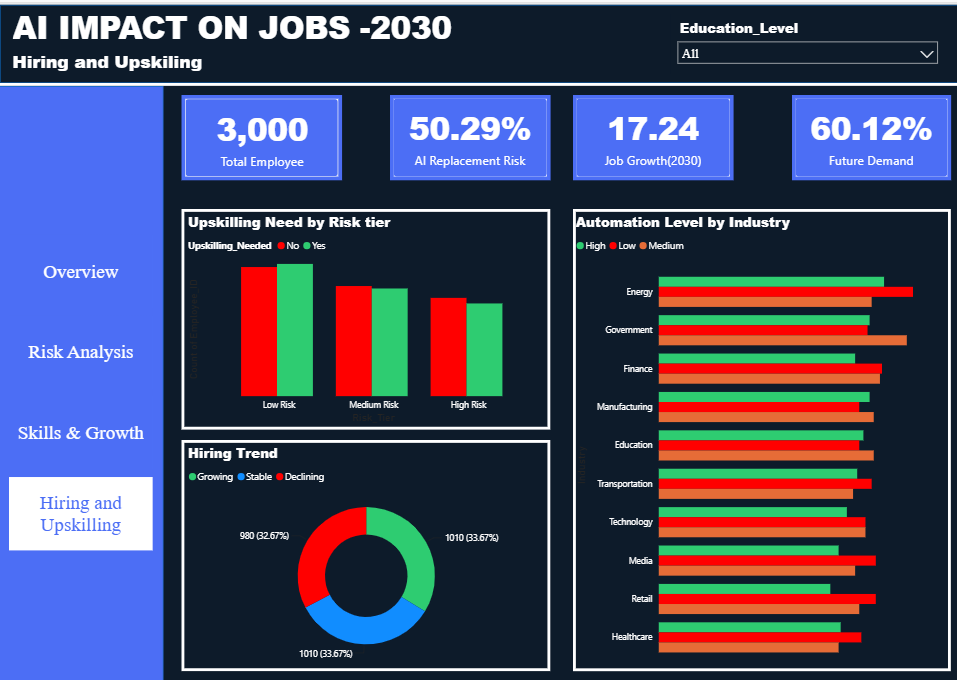

The page's visual inventory and layout, read from the dashboard file:
{"tool":"powerbi","page":{"name":"Hiring and Upskilling","canvas":[1350,950],"ordinal":3},"visuals":[{"type":"shape","box":[0,0,1349.5,117.5],"z":0},{"type":"donutChart","title":"Hiring Trend","fields":{"Category":["cleaned_data.Hiring_Trend_2026"],"Y":["CountNonNull(cleaned_data.Employee_ID)"]},"box":[258.1,612.8,516.3,323.2],"z":1000},{"type":"clusteredColumnChart","title":"Upskilling Need by Risk tier","fields":{"Category":["cleaned_data.Risk_Tier"],"Y":["CountNonNull(cleaned_data.Employee_ID)"],"Series":["cleaned_data.Upskilling_Needed"]},"box":[258.1,289.6,516.3,308.5],"z":2000},{"type":"clusteredBarChart","title":"Automation Level by Industry","fields":{"Category":["cleaned_data.Industry"],"Y":["CountNonNull(cleaned_data.Employee_ID)"],"Series":["cleaned_data.Automation_Level"]},"box":[805.9,289.6,528.9,646.4],"z":3000},{"type":"slicer","fields":{"Values":["cleaned_data.Education_Level"]},"box":[942.3,16.8,384.1,83.9],"z":4000},{"type":"cardVisual","fields":{"Data":["Avg(cleaned_data.AI_Replacement_Risk)"]},"box":[549.9,130.1,224.6,119.6],"z":5000},{"type":"cardVisual","fields":{"Data":["Avg(cleaned_data.Job_Growth_2030)"]},"box":[805.9,130.1,224.6,119.6],"z":6000},{"type":"cardVisual","fields":{"Data":["Avg(cleaned_data.Future_Demand_Score)"]},"box":[1112.3,130.1,222.5,119.6],"z":7000},{"type":"cardVisual","fields":{"Data":["Count(cleaned_data.Employee_ID)"]},"box":[258.1,130.1,224.6,119.6],"z":8000},{"type":"shape","box":[0,116.8,233,833.2],"z":9000},{"type":"pageNavigator","box":[16.8,325.3,201.5,442.8],"z":10000},{"type":"textbox","box":[16.8,0,902.5,117.5],"z":11000}]}

Visuals, with their boxes in screenshot pixels (x1, y1, x2, y2), scaled from the page's 1350x950 canvas onto the 957x680 screenshot:
shape: 0 0 956 84
"Hiring Trend" donutChart: 183 439 549 670
"Upskilling Need by Risk tier" clusteredColumnChart: 183 207 549 428
"Automation Level by Industry" clusteredBarChart: 571 207 946 670
slicer - cleaned_data.Education_Level: 668 12 940 72
cardVisual - Avg(cleaned_data.AI_Replacement_Risk): 390 93 549 179
cardVisual - Avg(cleaned_data.Job_Growth_2030): 571 93 731 179
cardVisual - Avg(cleaned_data.Future_Demand_Score): 788 93 946 179
cardVisual - Count(cleaned_data.Employee_ID): 183 93 342 179
shape: 0 84 165 679
pageNavigator: 12 233 155 550
textbox: 12 0 652 84
